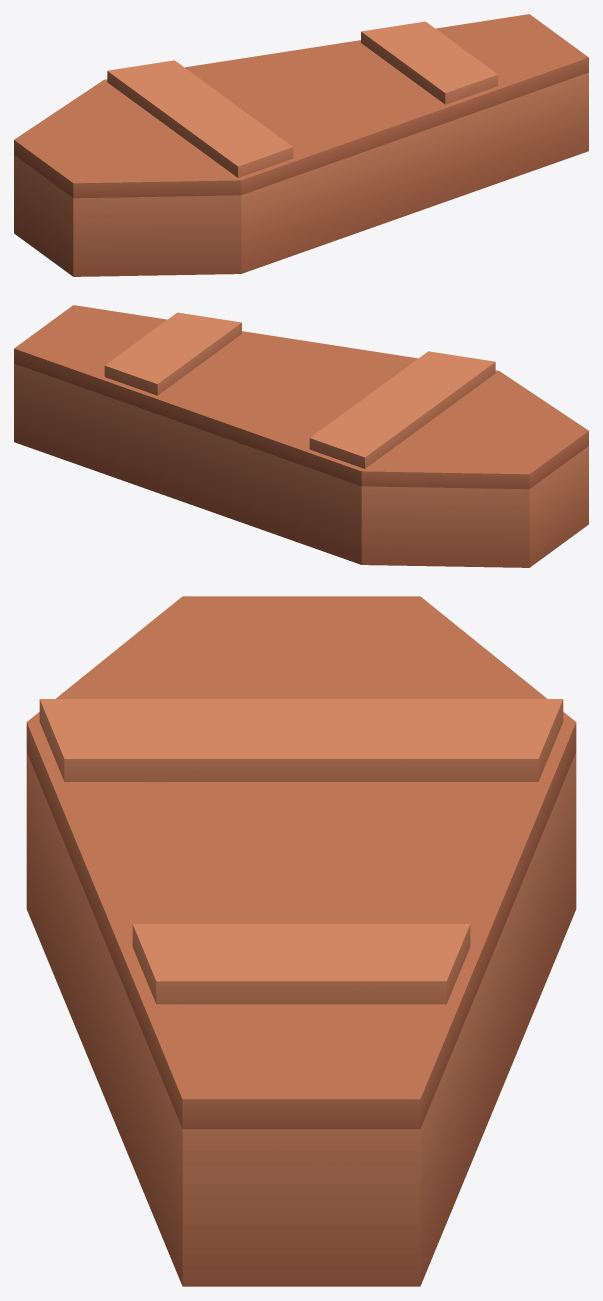
The model's file is Coffin_1.obj.
The picture shows the model from 3 angles, top to bottom: view 1: azimuth 30°, elevation 25°; view 2: azimuth 150°, elevation 25°; view 3: azimuth 270°, elevation 25°; orthographic projection. The views are drawn at different scales.
Visible parts, largest first — view 1: Coffin_1; view 2: Coffin_1; view 3: Coffin_1.
Boxes of the visible parts, x1,y1,x2,y2 form: Coffin_1: (14, 14, 588, 276); Coffin_1: (14, 305, 588, 567); Coffin_1: (26, 596, 576, 1286).
Bounding box in the file's own units: 1.41 × 0.2742 × 0.6495.
